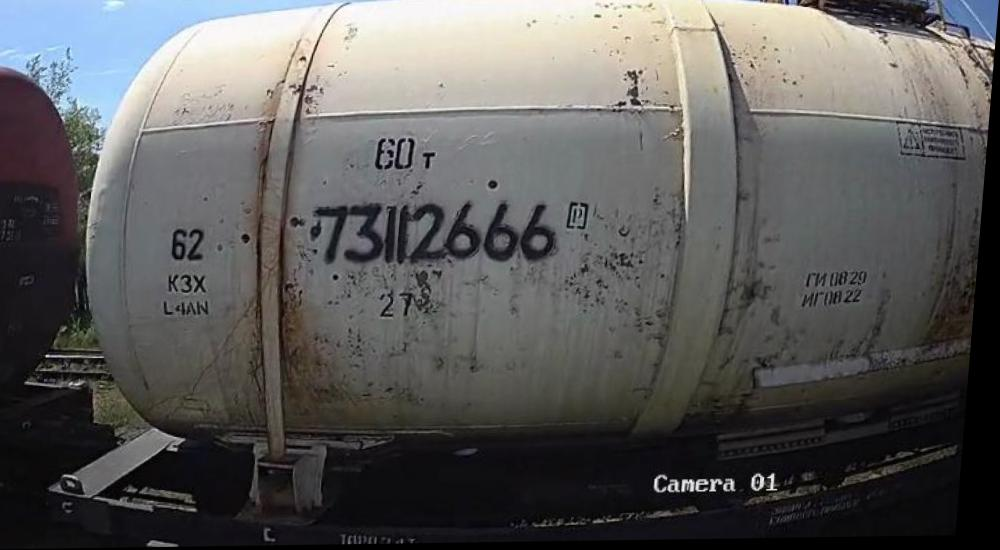Wagon-number: (314, 195, 568, 271)
